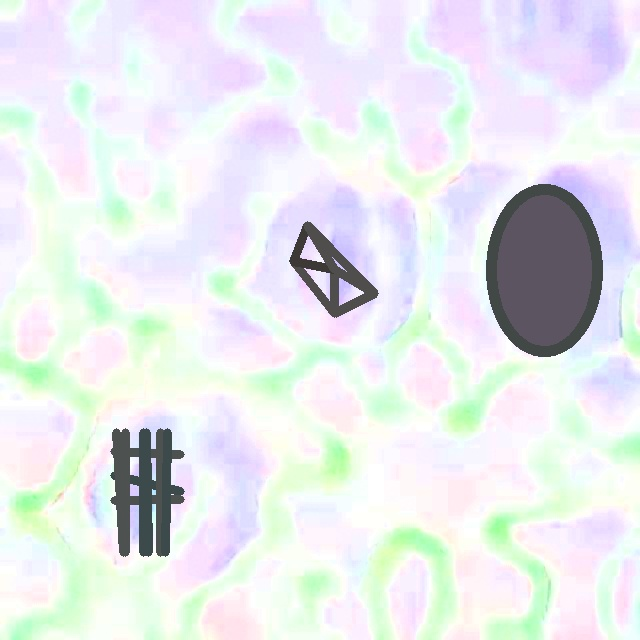open: (486, 183, 603, 357), (110, 428, 183, 556), (289, 221, 378, 317)
